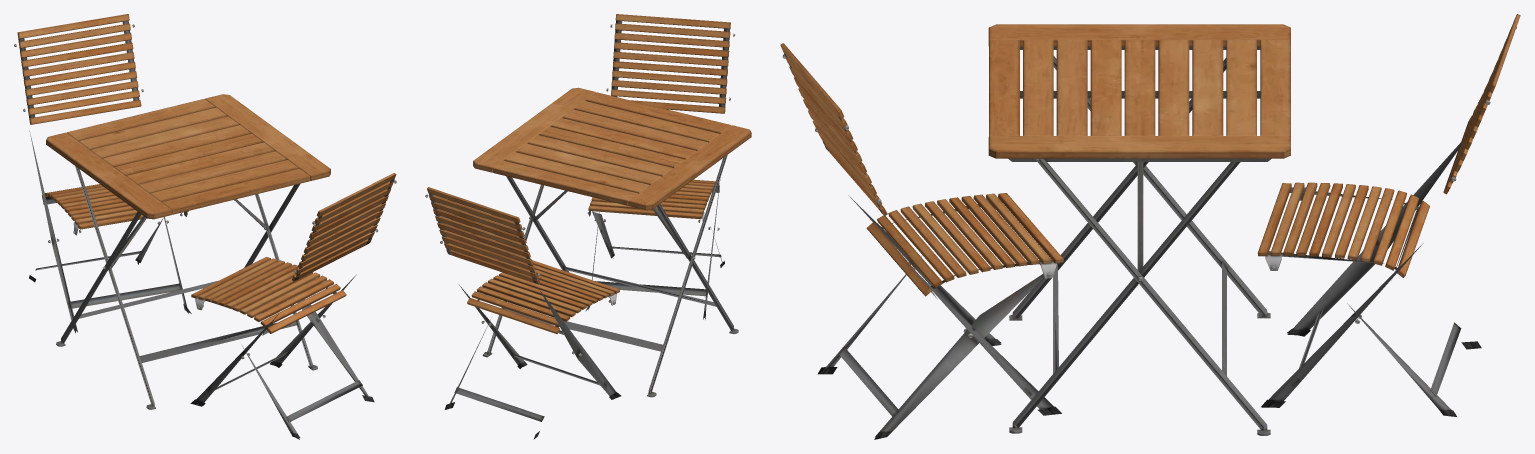
The model's file is gb-bistro.glb.
The picture shows the model from 3 angles, left to right: view 1: azimuth 30°, elevation 25°; view 2: azimuth 150°, elevation 25°; view 3: azimuth 270°, elevation 25°; orthographic projection. The views are drawn at different scales.
Visible parts, largest first — view 1: outdoor_table_chair_set_01_chair_01, outdoor_table_chair_set_01_table; view 2: outdoor_table_chair_set_01_chair_01, outdoor_table_chair_set_01_table; view 3: outdoor_table_chair_set_01_table, outdoor_table_chair_set_01_chair_01.
Part boxes in pixels (x1,y1,x2,y2): outdoor_table_chair_set_01_chair_01: [14, 14, 396, 439]; outdoor_table_chair_set_01_table: [46, 94, 330, 409]; outdoor_table_chair_set_01_chair_01: [425, 14, 735, 439]; outdoor_table_chair_set_01_table: [473, 87, 751, 397]; outdoor_table_chair_set_01_table: [988, 24, 1290, 435]; outdoor_table_chair_set_01_chair_01: [780, 14, 1520, 439].
Bounding box in the file's own units: 0.7404 × 0.8505 × 1.7.
Materials: 2 (2 with a texture image).
